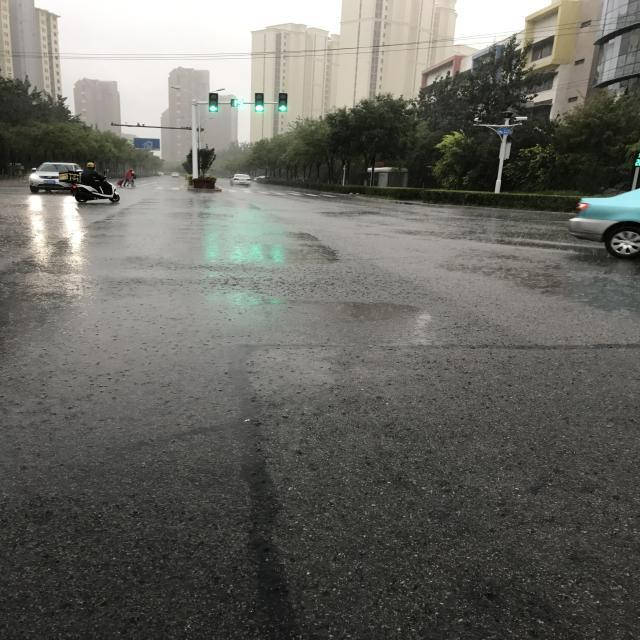car: (187, 0, 258, 71), (161, 574, 193, 612), (172, 390, 188, 409)
